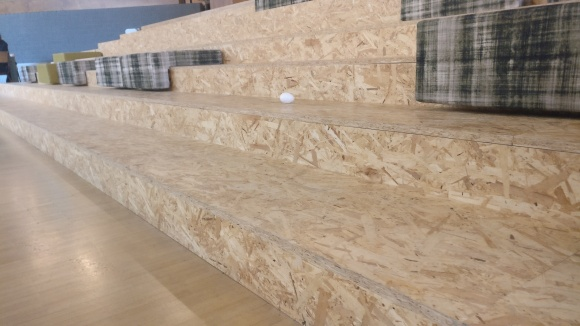egg: (279, 92, 295, 104)
